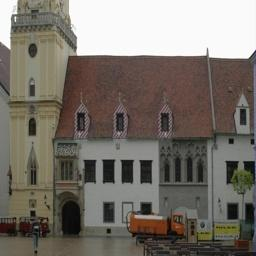building: (3, 0, 256, 237)
